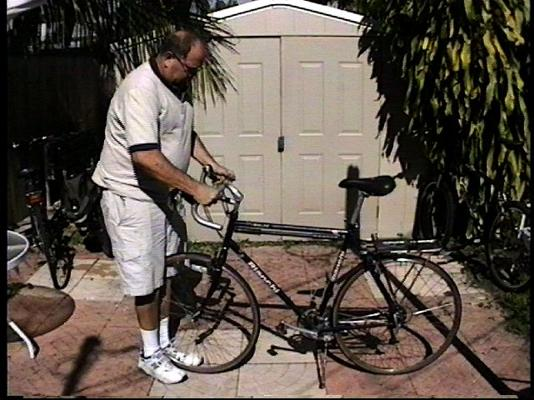person: (87, 24, 239, 388)
